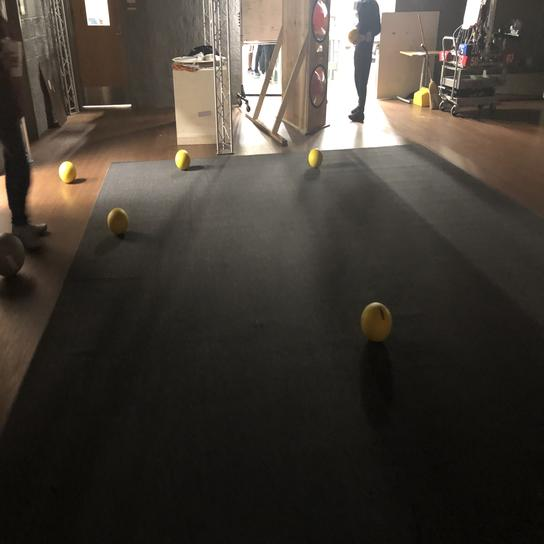ball: (357, 299, 399, 345), (102, 204, 135, 238), (53, 159, 81, 182), (304, 147, 327, 172), (172, 147, 192, 168)
